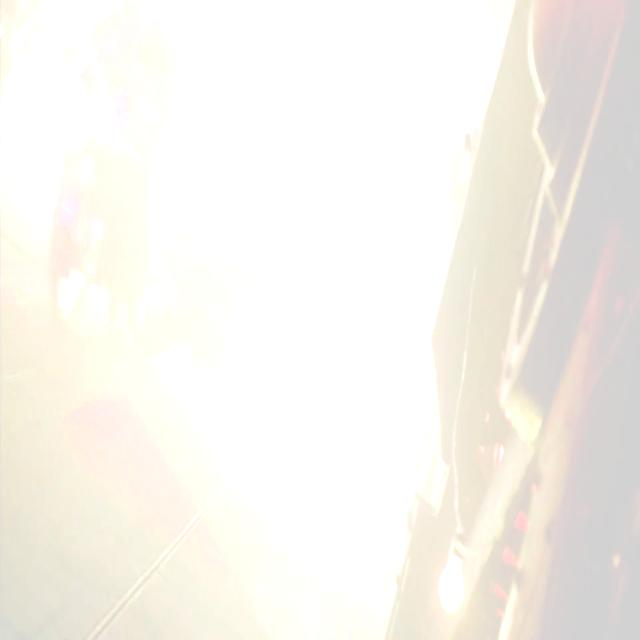Motorbike: (54, 6, 154, 340)
